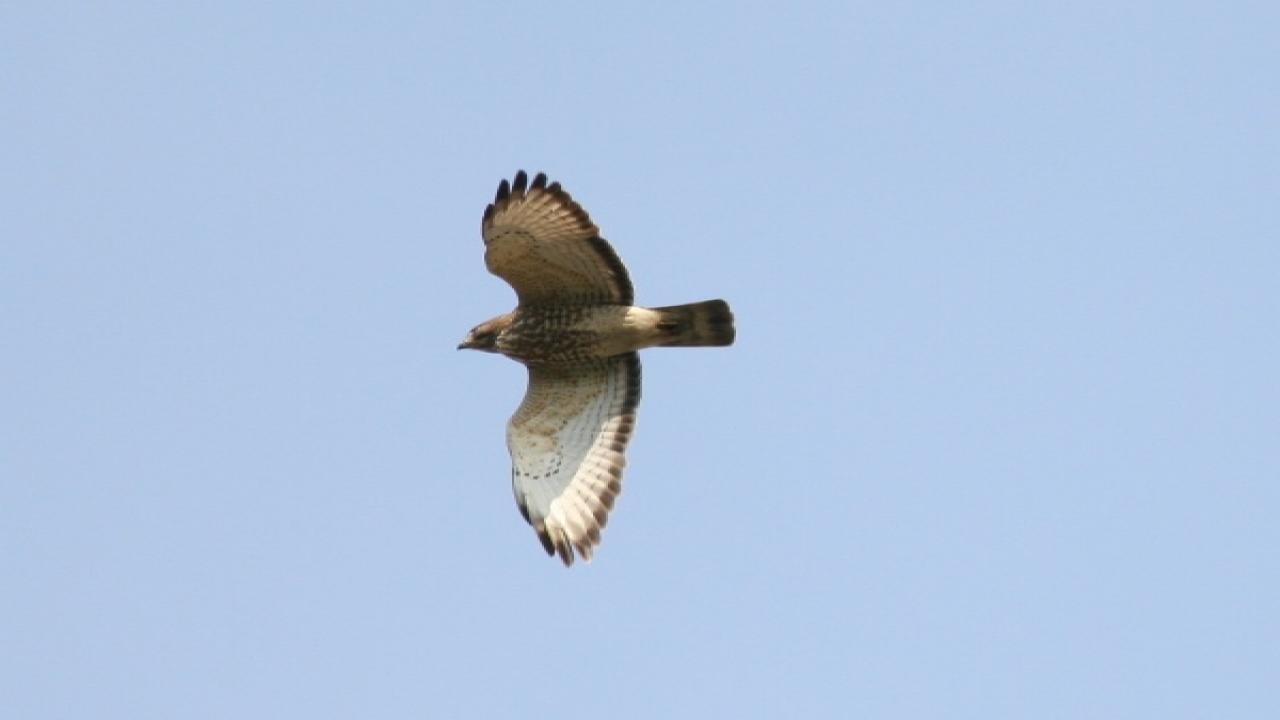Bird: (442, 164, 744, 575)
